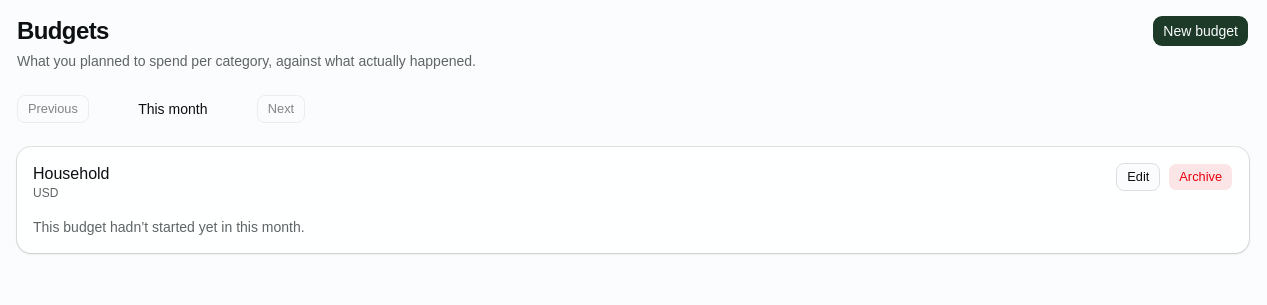
BudgetsPage › archives a budget and refreshes the list
expect the text "Household" is shown: met, box [33,163,110,185]
Click the button "Archive" at (1201, 177), box [1168,163,1233,191]
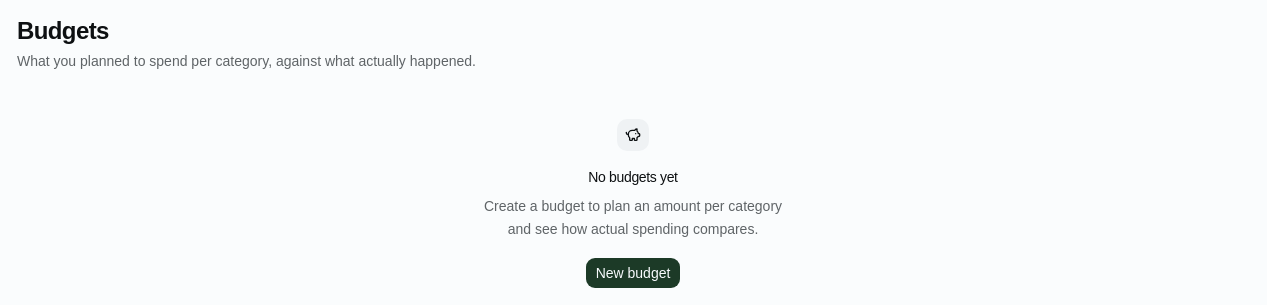
expect the text "No budgets yet" is shown: met, box [588,167,678,187]
